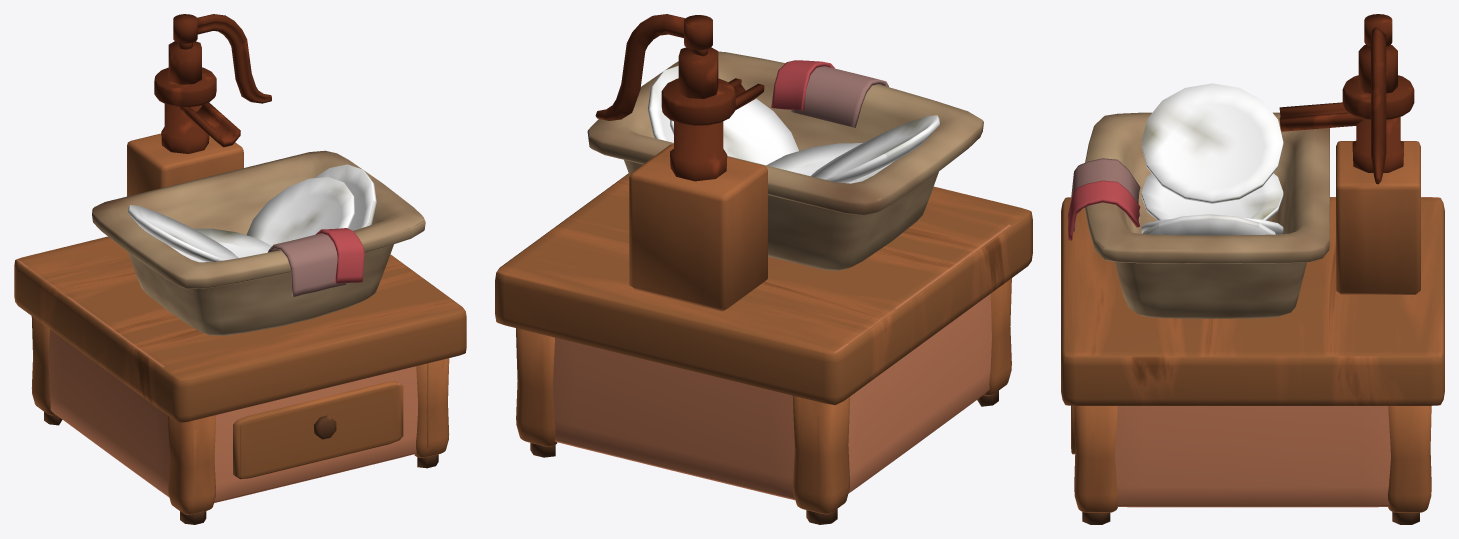
File: Cesme.fbx
The picture shows the model from 3 angles, left to right: view 1: azimuth 30°, elevation 25°; view 2: azimuth 150°, elevation 25°; view 3: azimuth 270°, elevation 25°; orthographic projection. The views are drawn at different scales.
Visible parts, largest first — view 1: Cesme; view 2: Cesme; view 3: Cesme.
Boxes of the visible parts, x1,y1,x2,y2 form: Cesme: [14, 14, 466, 524]; Cesme: [495, 14, 1032, 524]; Cesme: [1061, 14, 1444, 524].
Bounding box in the file's own units: 98.38 × 123 × 98.38.
1 material, 1 textured.
